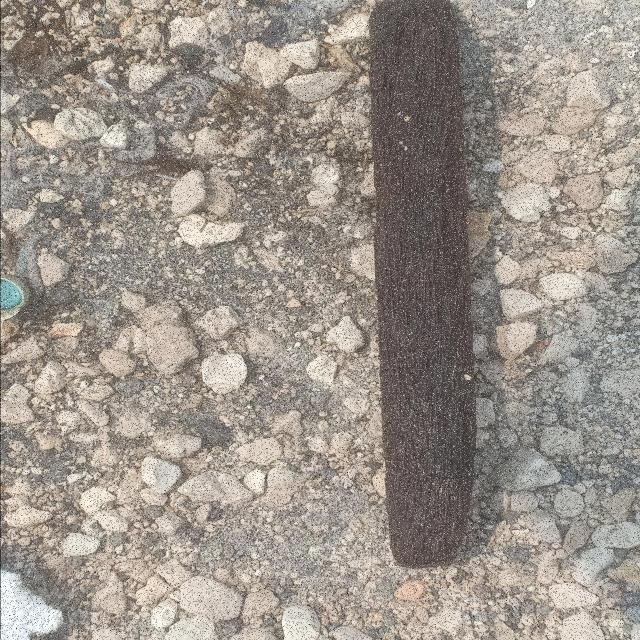wood_waste: (369, 1, 478, 570)
